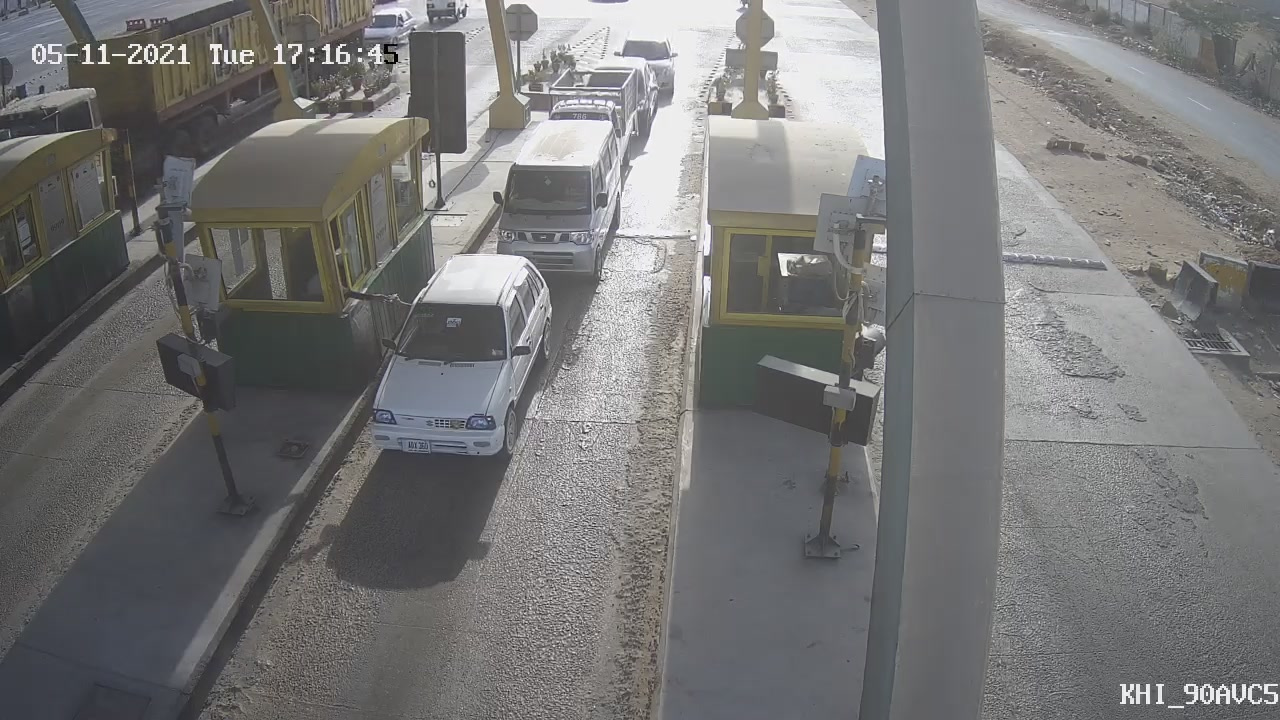F1: (347, 234, 573, 490), (468, 105, 646, 295)
